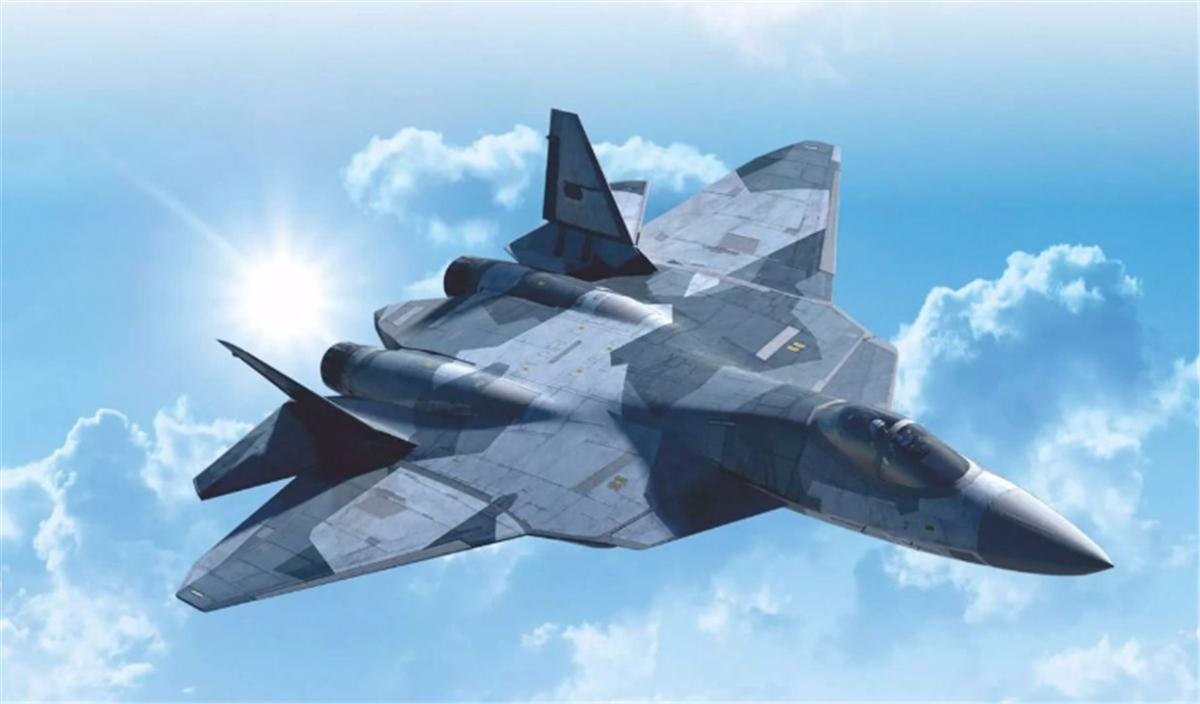airplane: (164, 114, 1116, 620)
